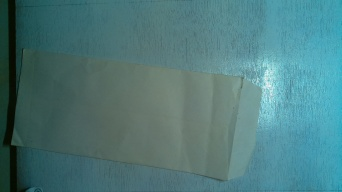l: (13, 46, 264, 185)
